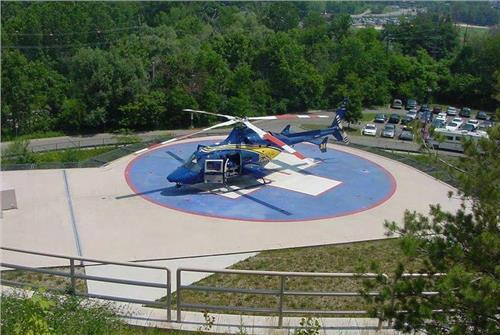Apron: (124, 140, 397, 221)
